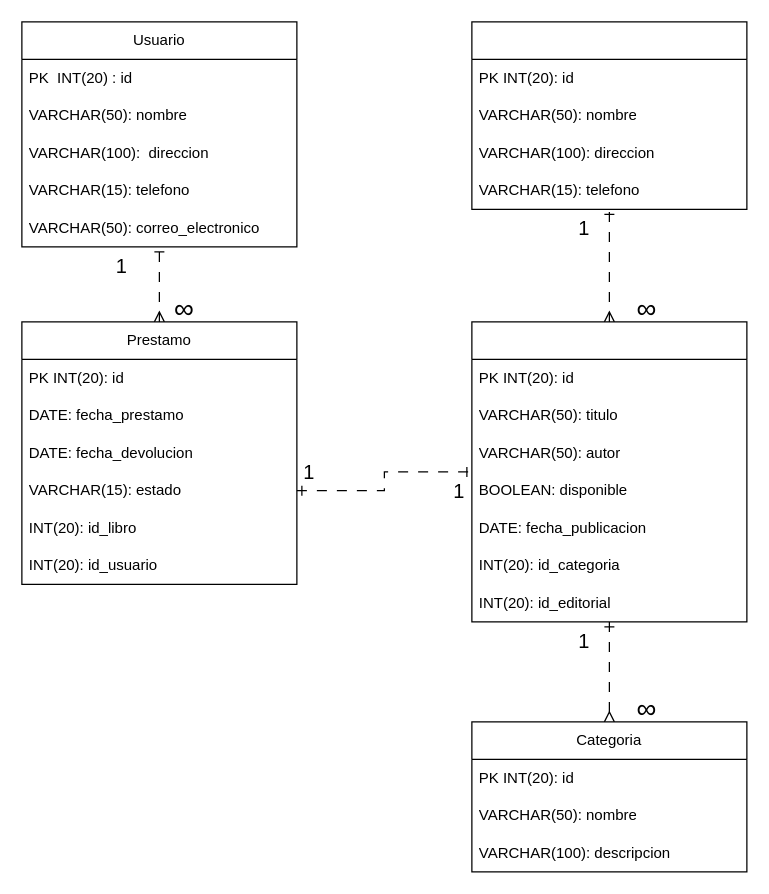
The diagram is 769 pixels wide and 894 high, and some of its shapes have lost their labels. The shapes that lost their labels are listed below. From the top down, each one's box as (x1, y1, x2, y2) in pixels, then its label:
(471, 21, 747, 209): Editorial
(471, 321, 747, 622): Libro
